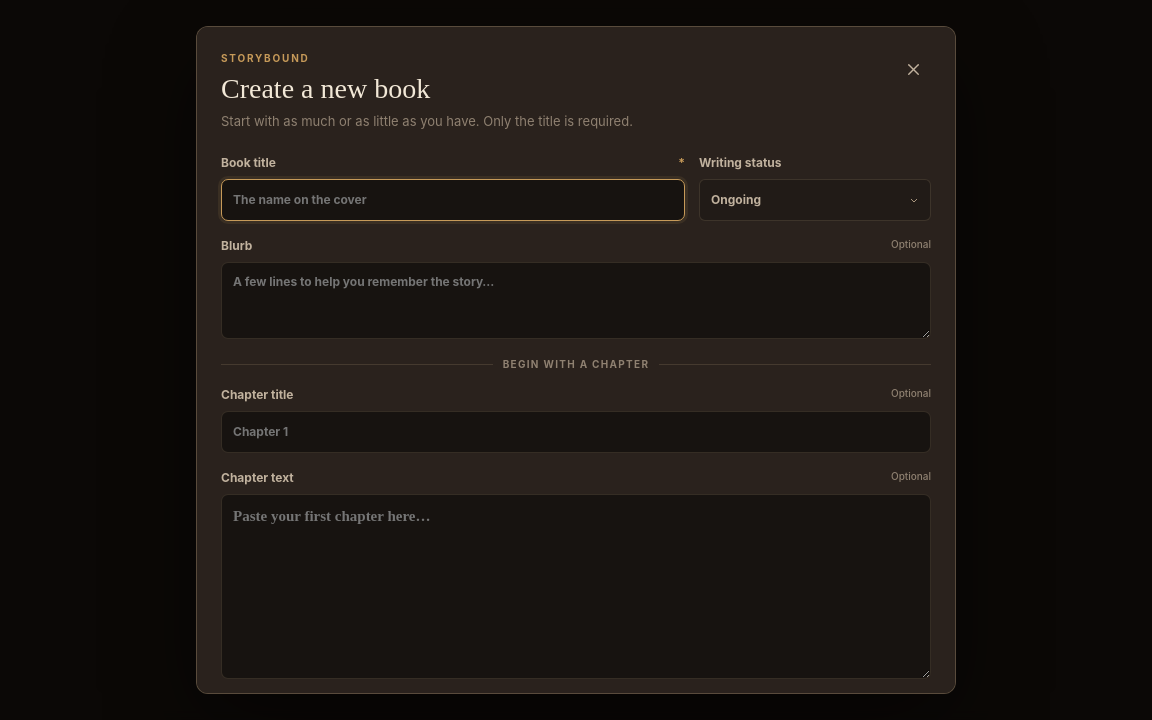
Test: AddBookModal › blocks close preparation with visible guidance for a nonempty unsaved form
This screenshot has width=1152, height=720.
Type "Not created yet" into the field labelled "Book title *" at (453, 200), box [221,179,685,221]
(page scrolled)
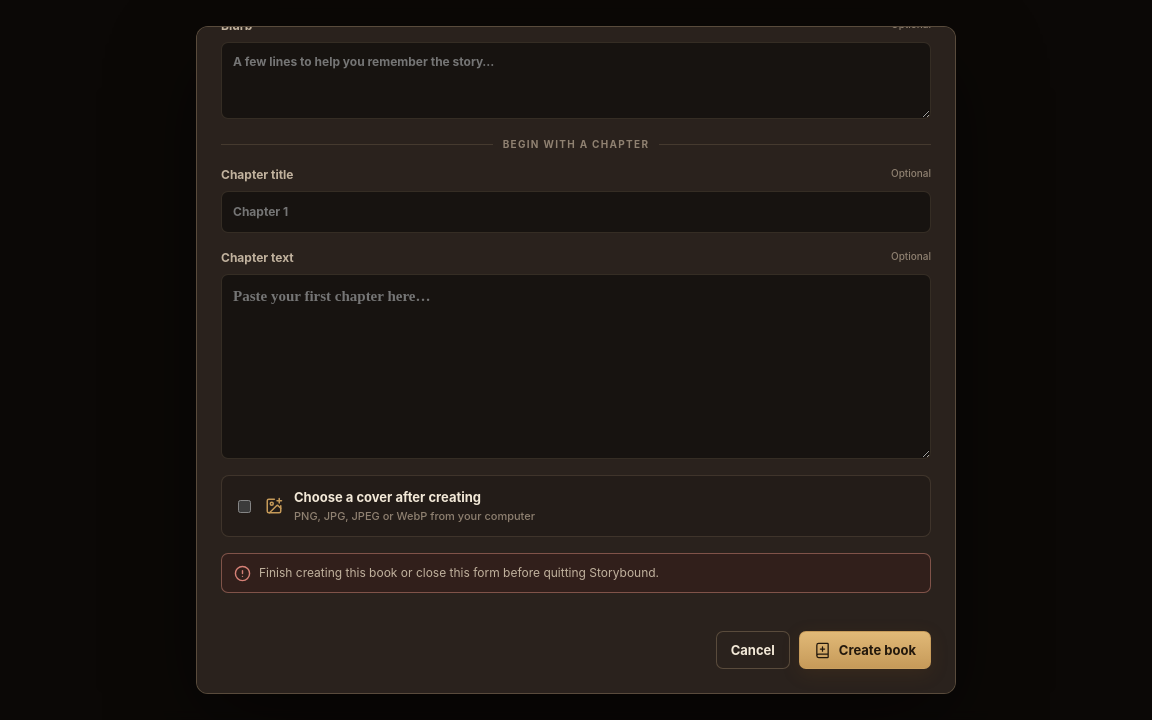
expect the text "Finish creating this book or close this form before quitting Storybound." is shown: met, box [259,564,659,582]
